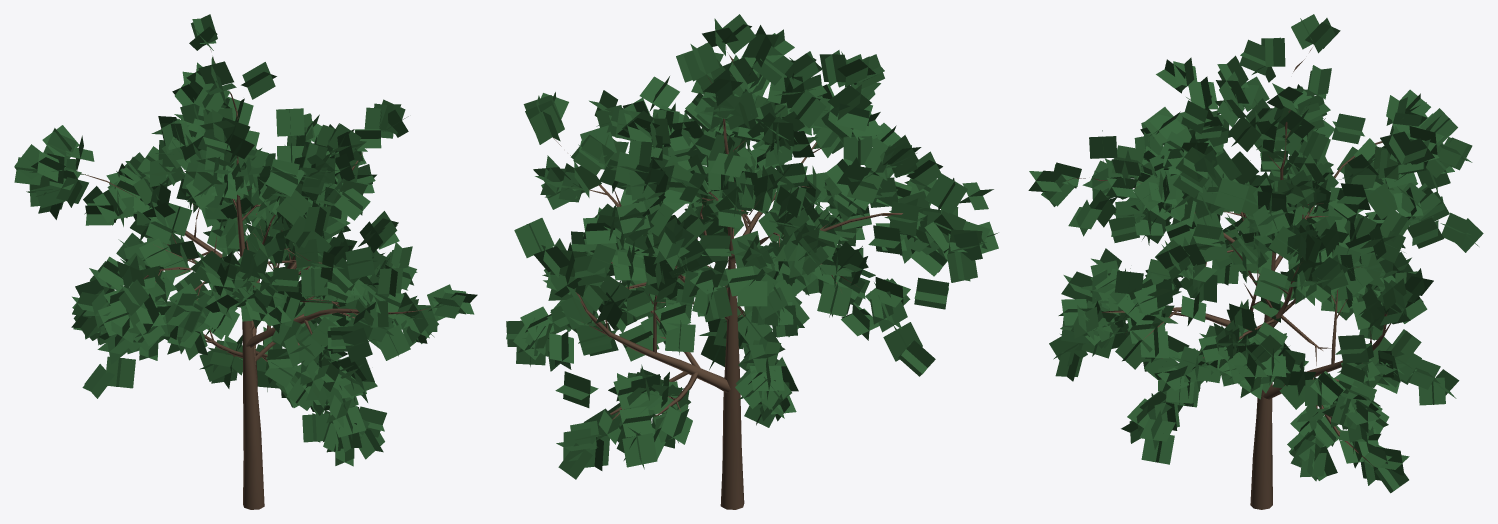
Rendered from oak-1-lod1.glb.
The picture shows the model from 3 angles, left to right: view 1: azimuth 30°, elevation 25°; view 2: azimuth 150°, elevation 25°; view 3: azimuth 270°, elevation 25°; orthographic projection. The views are drawn at different scales.
Visible parts, largest first — view 1: leaves, branches; view 2: leaves, branches; view 3: leaves, branches.
Boxes of the visible parts, bbox=[...] form: leaves: bbox=[14, 14, 477, 466]; branches: bbox=[80, 49, 428, 509]; leaves: bbox=[506, 14, 998, 479]; branches: bbox=[553, 47, 902, 509]; leaves: bbox=[1028, 14, 1483, 493]; branches: bbox=[1067, 47, 1390, 509].
Size of the model in its own units: 12.27 by 14.75 by 12.77.
